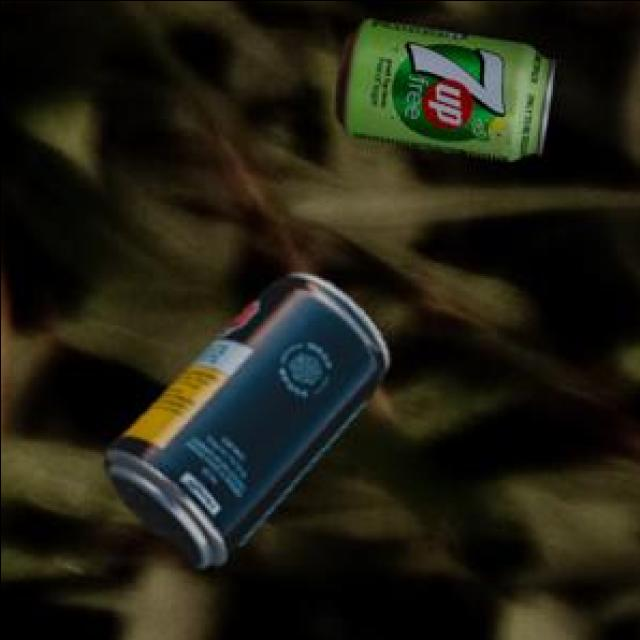logam: (100, 270, 383, 564), (332, 16, 550, 158)
